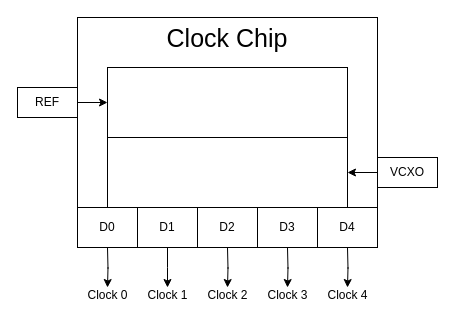
The diagram is 455 pixels wide and 323 high, and some of its shapes have lost their labels. Each missing label, with the centre of its shape:
"PLL1" belongs at (x=227, y=102).
"PLL2" belongs at (x=227, y=172).
